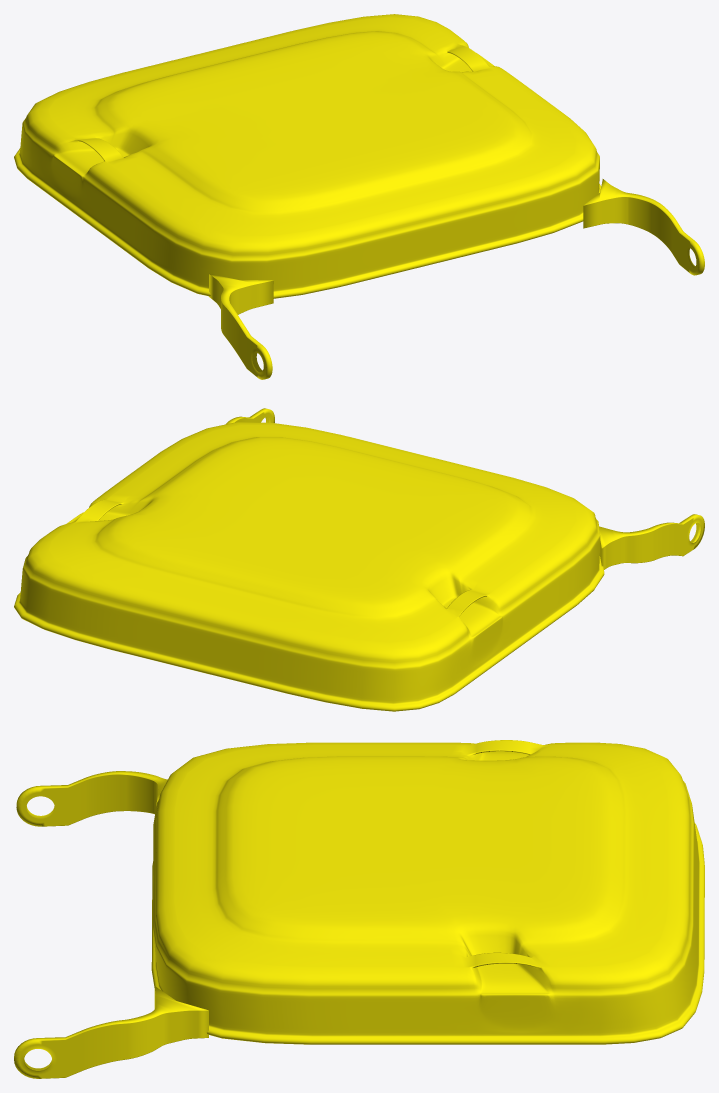
The model's file is tutup-anorganik.fbx.
3 views of the same model, one above another, from view 1: azimuth 30°, elevation 25°; view 2: azimuth 150°, elevation 25°; view 3: azimuth 270°, elevation 25° (orthographic). The views are drawn at different scales.
Visible parts, largest first — view 1: BinBaseRim.000; view 2: BinBaseRim.000; view 3: BinBaseRim.000.
Boxes of the visible parts, x1=… form: BinBaseRim.000: x1=14, y1=14, x2=704, y2=379; BinBaseRim.000: x1=14, y1=408, x2=704, y2=711; BinBaseRim.000: x1=14, y1=740, x2=704, y2=1078.
Size of the model in its own units: 235 by 48.95 by 270.
